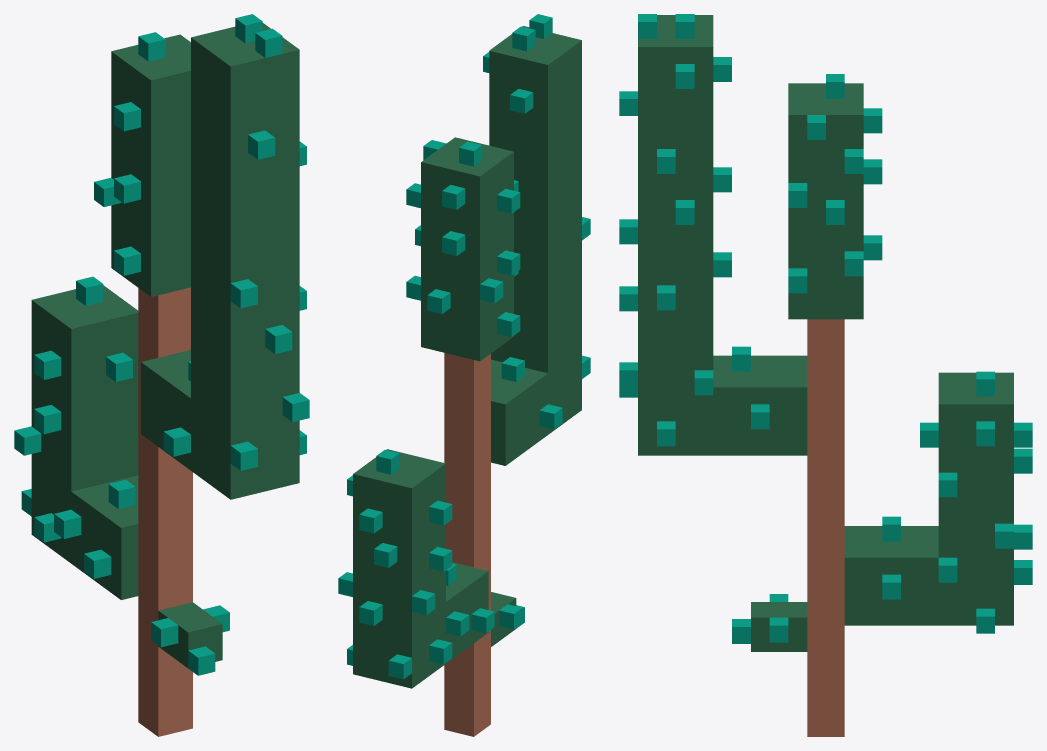
File: Tree4.obj
3 views of the same model, side by side, from view 1: azimuth 30°, elevation 25°; view 2: azimuth 150°, elevation 25°; view 3: azimuth 270°, elevation 25° (orthographic). The views are drawn at different scales.
Parts seen in each view (by area): view 1: Tree4; view 2: Tree4; view 3: Tree4.
Boxes of the visible parts, x1,y1,x2,y2 form: Tree4: (14,14,309,736); Tree4: (338,14,590,736); Tree4: (619,14,1032,736).
Size of the model in its own units: 6 by 42 by 22.
Materials: 1 (1 with a texture image).
